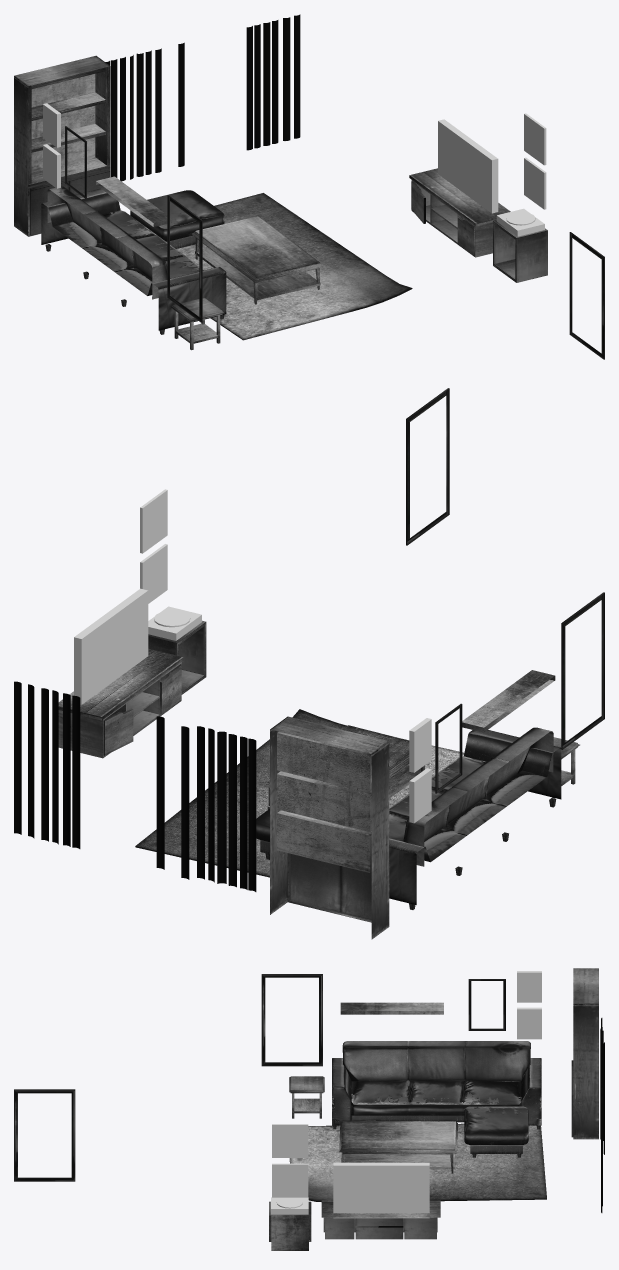
The model's file is apartment_furniture.fbx.
The picture shows the model from 3 angles, top to bottom: view 1: azimuth 30°, elevation 25°; view 2: azimuth 150°, elevation 25°; view 3: azimuth 270°, elevation 25°; orthographic projection. The views are drawn at different scales.
Visible parts, largest first — view 1: bookshelf, blinds, rug, couch, coffee_table, Box031, Plane007, Box032, solo_cushion, bedside_table, shelf_1, frame_002 (+8 smaller); view 2: bookshelf, blinds, couch, rug, Box031, Plane007, shelf_1, Box032, frame_1, coffee_table, frame_002, Box035 (+7 smaller); view 3: couch, rug, Box031, coffee_table, bookshelf, Plane007, solo_cushion, Box032, frame_002, shelf_1, frame_1, Box034 (+7 smaller).
Part boxes in pixels (<box>): bookshelf: <box>14,55,110,236</box>; blinds: <box>105,14,300,181</box>; rug: <box>176,193,412,340</box>; couch: <box>41,186,226,334</box>; coffee_table: <box>191,216,323,304</box>; Box031: <box>438,119,498,213</box>; Plane007: <box>409,168,510,257</box>; Box032: <box>493,220,547,282</box>; solo_cushion: <box>130,190,224,248</box>; bedside_table: <box>171,297,223,350</box>; shelf_1: <box>96,176,172,226</box>; frame_002: <box>569,232,604,359</box>; bookshelf: <box>270,716,389,939</box>; blinds: <box>14,681,256,891</box>; couch: <box>389,727,561,909</box>; rug: <box>135,709,464,877</box>; Box031: <box>74,588,148,704</box>; Plane007: <box>58,648,183,758</box>; shelf_1: <box>462,670,555,732</box>; Box032: <box>148,620,206,694</box>; frame_1: <box>561,592,604,749</box>; coffee_table: <box>264,725,424,809</box>; frame_002: <box>406,388,449,545</box>; Box035: <box>140,489,167,553</box>; couch: <box>332,1041,541,1129</box>; rug: <box>289,1123,546,1201</box>; Box031: <box>333,1162,429,1218</box>; coffee_table: <box>339,1120,457,1173</box>; bookshelf: <box>571,968,598,1139</box>; Plane007: <box>321,1200,440,1239</box>; solo_cushion: <box>464,1106,528,1157</box>; Box032: <box>269,1201,311,1250</box>; frame_002: <box>14,1089,75,1181</box>; shelf_1: <box>340,1002,443,1014</box>; frame_1: <box>261,974,322,1066</box>; Box034: <box>272,1163,308,1197</box>.
Bounding box in the file's own units: 771 × 313 × 1243.
